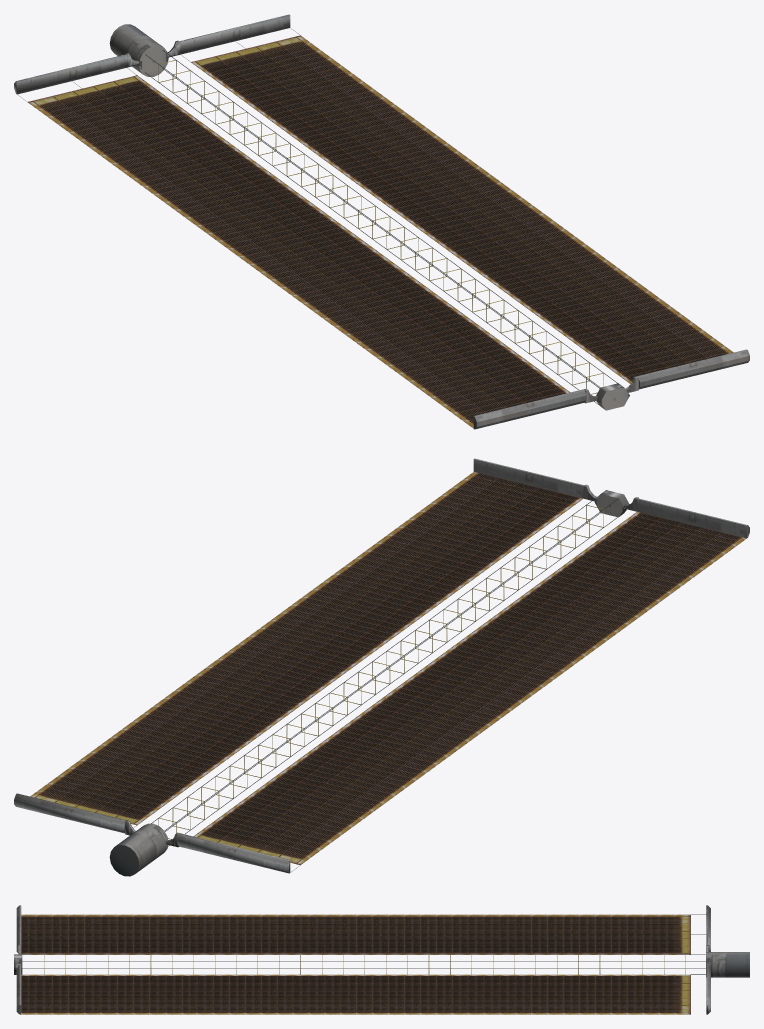
The model's file is s4_truss_23_01.dae.
The picture shows the model from 3 angles, top to bottom: view 1: azimuth 30°, elevation 25°; view 2: azimuth 150°, elevation 25°; view 3: azimuth 270°, elevation 25°; orthographic projection. The views are drawn at different scales.
Parts seen in each view (by area): view 1: 23 S4 Truss_01; view 2: 23 S4 Truss_01; view 3: 23 S4 Truss_01.
Part boxes in pixels (x1,y1,x2,y2): 23 S4 Truss_01: (14,14,749,429); 23 S4 Truss_01: (14,458,749,876); 23 S4 Truss_01: (14,905,749,1014).
Bounding box in the file's own units: 12.08 × 37.55 × 1.31.
